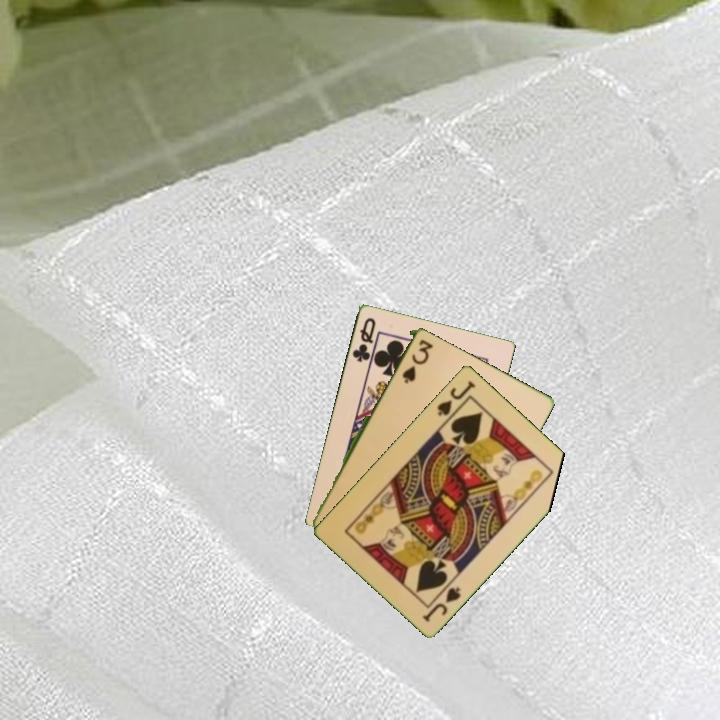3s: (398, 335, 433, 386)
Js: (434, 377, 478, 419), (419, 583, 464, 624)
Qc: (348, 314, 378, 365)
